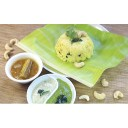venpongal: (56, 31, 95, 60)
